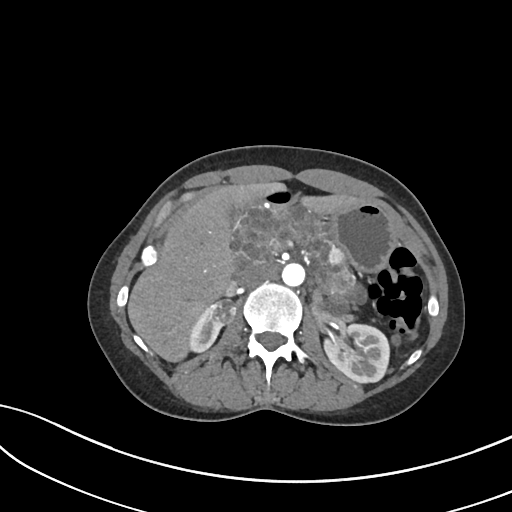Lesion: (212, 301, 239, 326)
